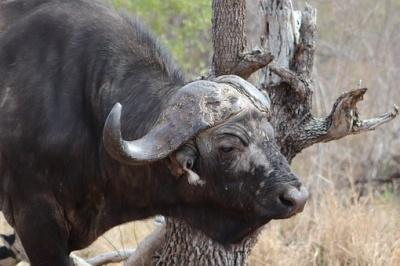buffalo: (0, 0, 307, 265)
